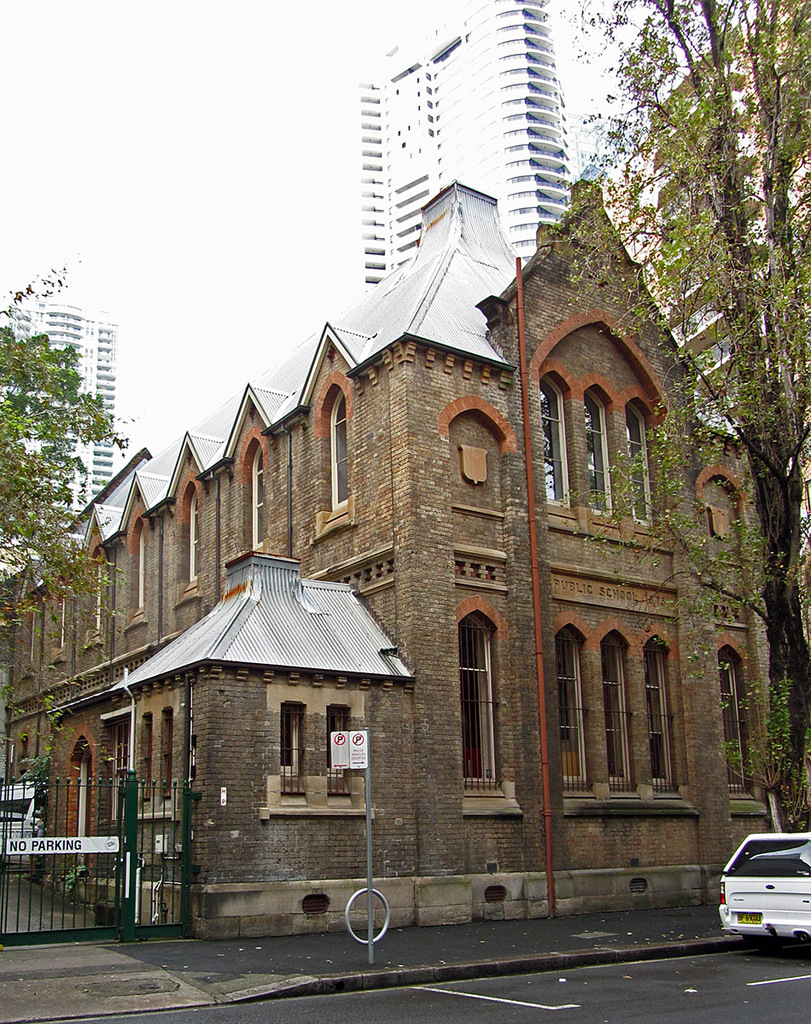Car: (708, 836, 811, 954)
